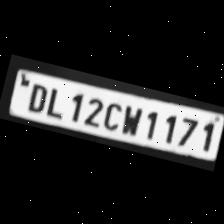1: (192, 115, 219, 152), (138, 104, 163, 140), (155, 108, 180, 144), (61, 88, 86, 123)
2: (79, 91, 105, 127)
7: (170, 110, 200, 148)
C: (99, 96, 124, 132)
D: (22, 78, 51, 112)
L: (42, 82, 68, 119)
W: (116, 100, 146, 136)
